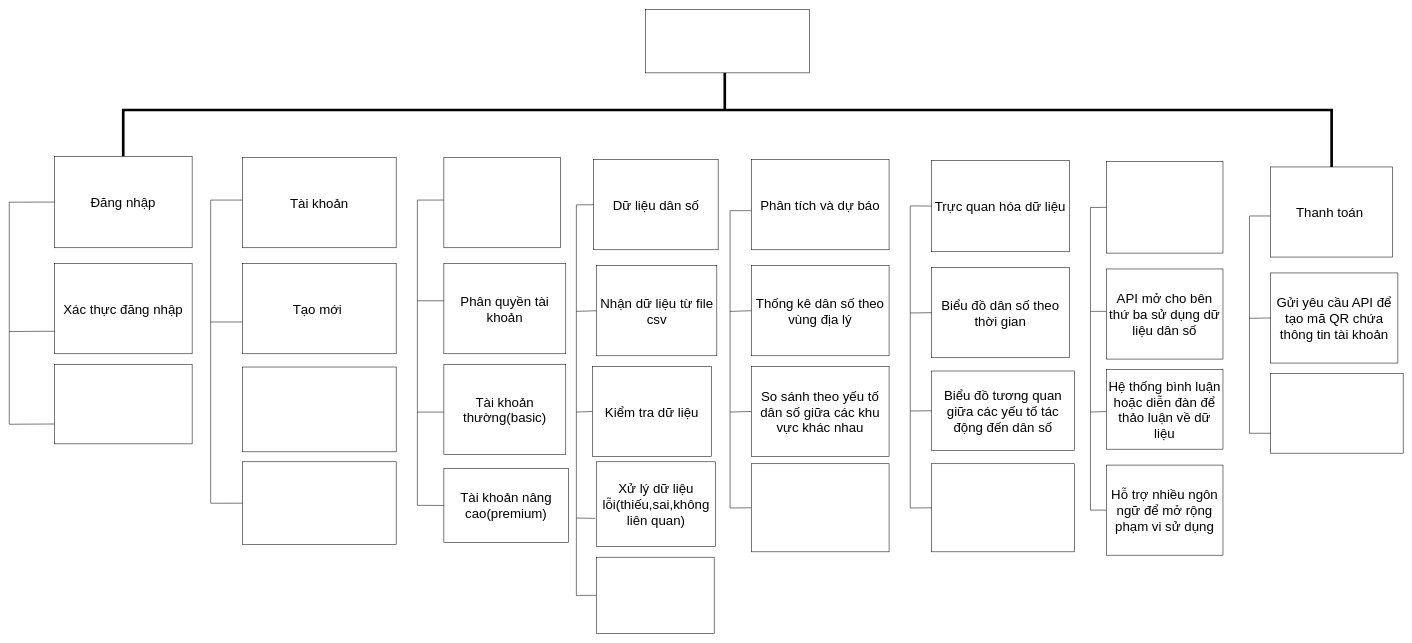
This 1412x643 diagram has some shape labels left out. Each missing label, with the box of its shape:
CRUD(Thêm,sửa,xóa,cập nhật thông tin): (242, 366, 396, 452)
Cấp độ tài khoản: (443, 157, 560, 248)
Dự báo dân số tương lai bằng AI: (751, 463, 889, 552)
Giữ phiên đăng nhập: (54, 364, 192, 444)
Lịch sử thay đổi dữ liệu(audit log): (596, 557, 714, 633)
Nhúng mã QR vào web/app để khách hàng quét và thanh toán: (1270, 373, 1403, 453)
Tích hợp: (1106, 161, 1223, 253)
Web app phân tích, dự đoán dân số: (645, 9, 810, 73)
Xuất file báo cáo: (931, 463, 1075, 552)
Đặt lại mật khẩu: (242, 461, 396, 545)
